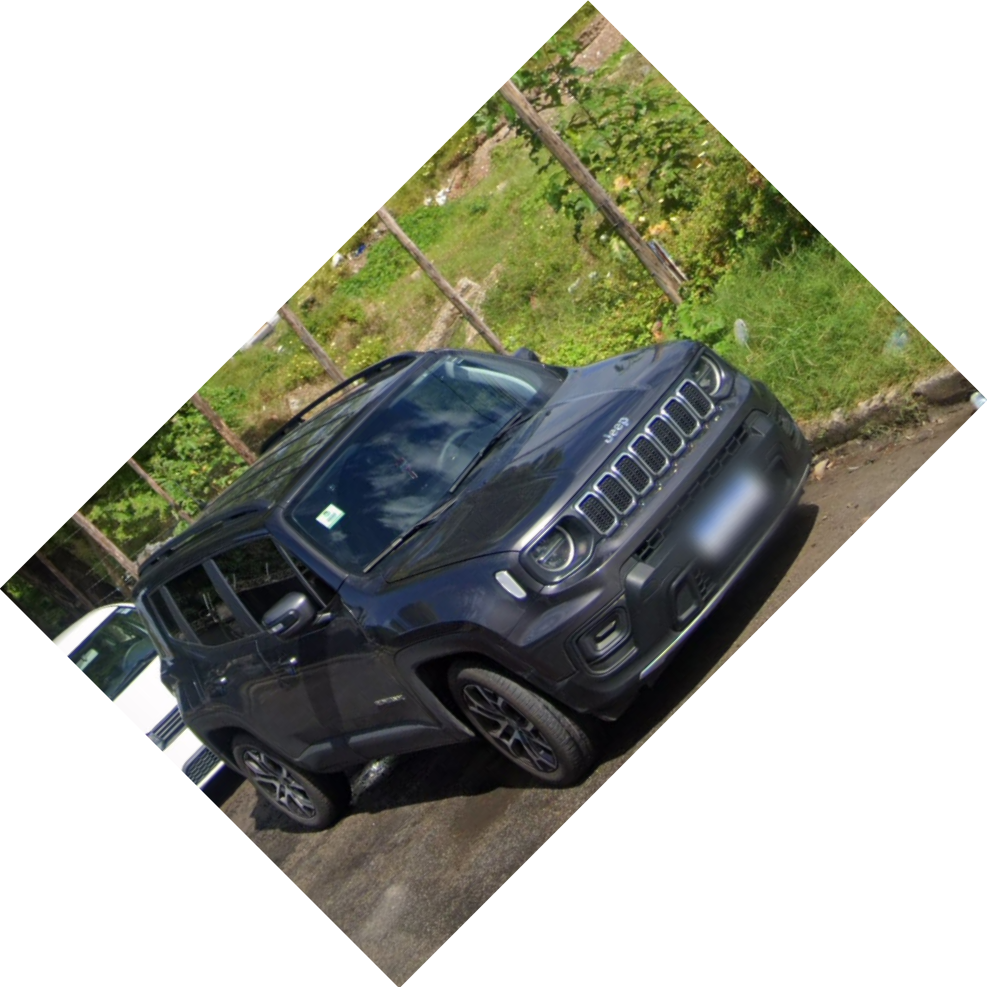car: (138, 341, 810, 830)
